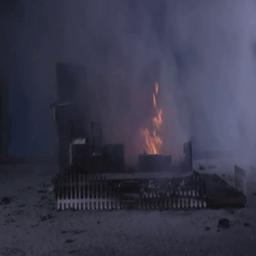fire: (130, 78, 175, 160)
smoke: (60, 0, 256, 99)
